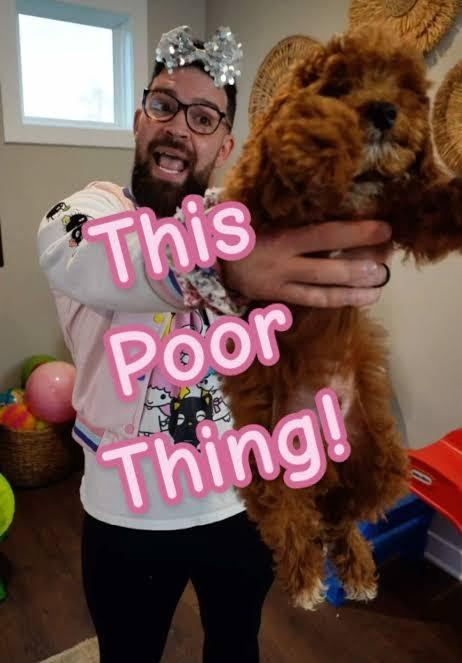adult_dog: (220, 24, 462, 611)
